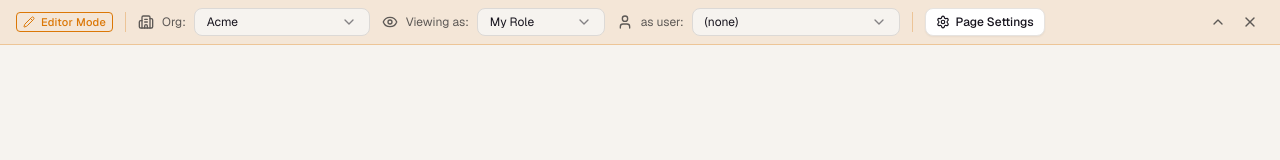
Test: EditorToolbar org selector › lists every available org, flagging suspended ones
This screenshot has width=1280, height=160.
Click the dropdown named "Editor organization": (282, 22) x1=194 y1=8 x2=370 y2=36
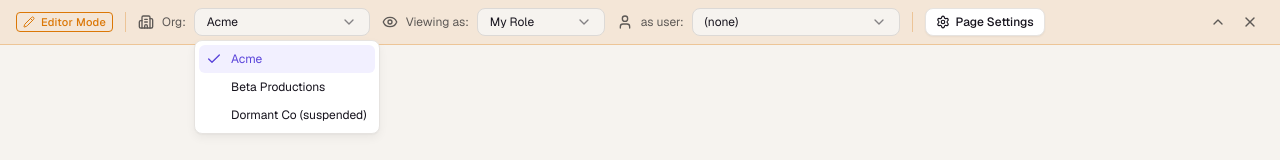
Result: the option "Acme" is shown at x1=199 y1=45 x2=374 y2=73
Result: the option "Beta Productions" is shown at x1=231 y1=79 x2=325 y2=95
Result: the option "Dormant Co (suspended)" is shown at x1=231 y1=107 x2=366 y2=123
